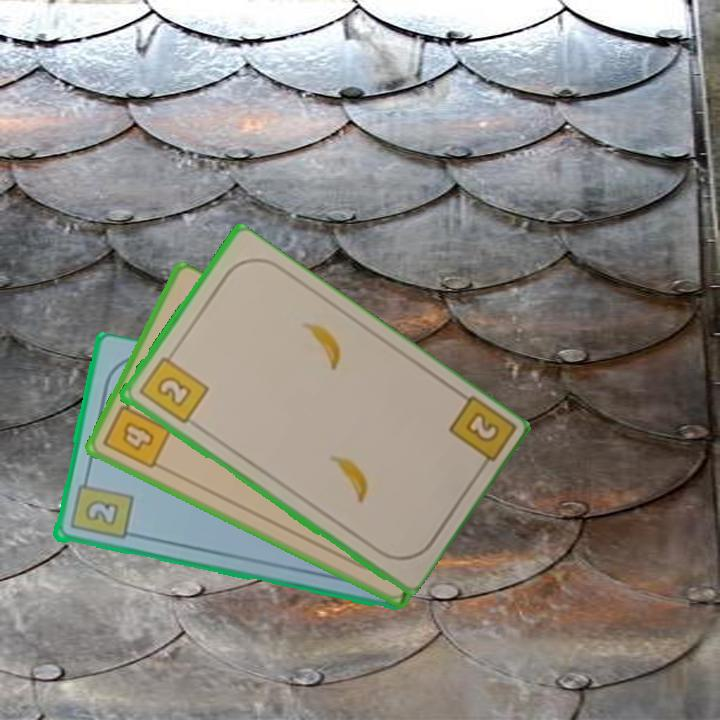2b: (135, 347, 211, 427), (444, 392, 515, 477), (66, 472, 135, 543)
4b: (99, 393, 174, 472)
